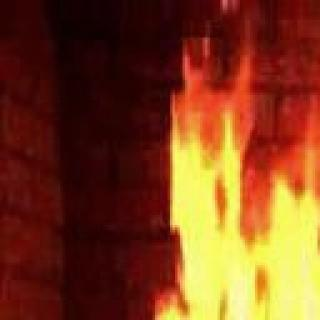fire: (172, 82, 320, 320)
